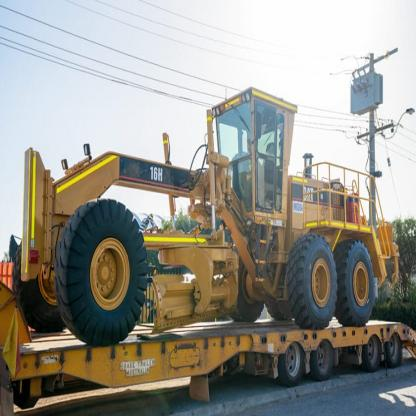bull_dozer/loader/grader: (10, 39, 394, 342)
